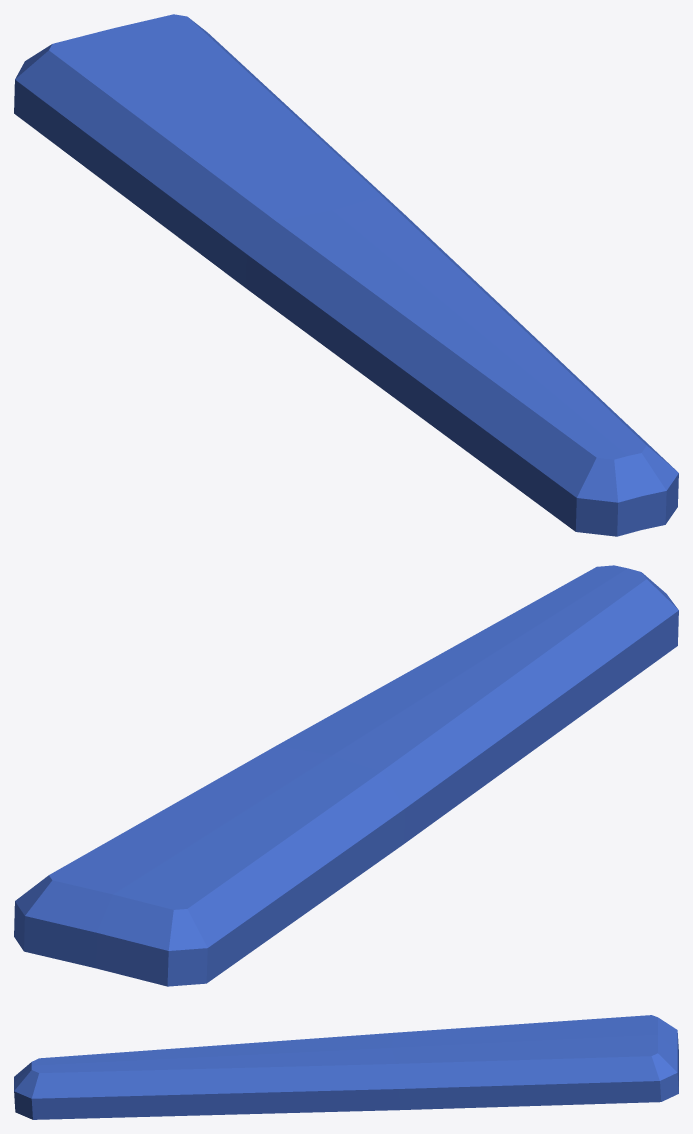
Rendered from Fighter_04_Detail_4_Blue.fbx.
3 views of the same model, one above another, from view 1: azimuth 30°, elevation 25°; view 2: azimuth 150°, elevation 25°; view 3: azimuth 270°, elevation 25° (orthographic). The views are drawn at different scales.
Visible parts, largest first — view 1: Fighter_04_Detail_4_Blue; view 2: Fighter_04_Detail_4_Blue; view 3: Fighter_04_Detail_4_Blue.
Boxes of the visible parts, x1,y1,x2,y2 form: Fighter_04_Detail_4_Blue: (14,14,678,536); Fighter_04_Detail_4_Blue: (14,565,678,986); Fighter_04_Detail_4_Blue: (14,1015,678,1119).
Size of the model in its own units: 58.91 by 33.79 by 289.
1 material, 1 textured.
